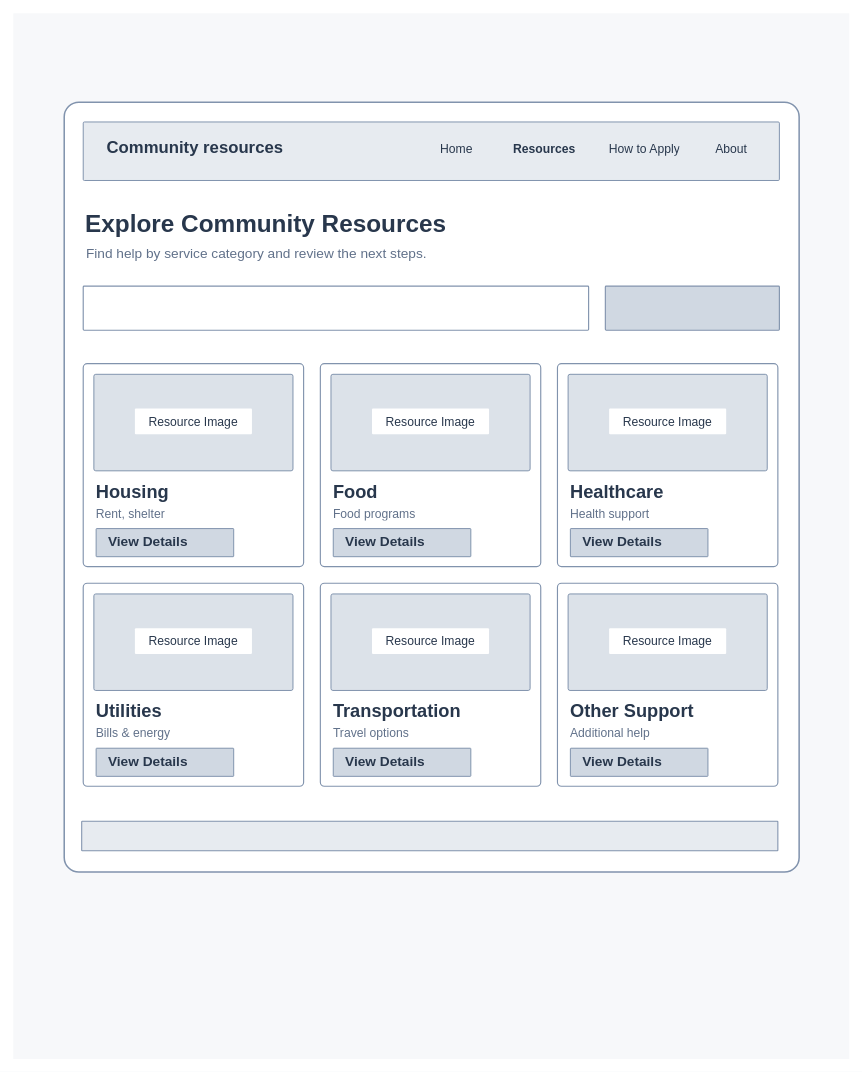
Some shapes in this 862 by 1072 pixel diagram are drawn without their labels. Each missing label, with the centre of its shape:
"FOOTER · NAV LINKS" belongs at point (429, 835).
"Search" belongs at point (692, 307).
"Search resources or keywords ..." belongs at point (335, 307).
